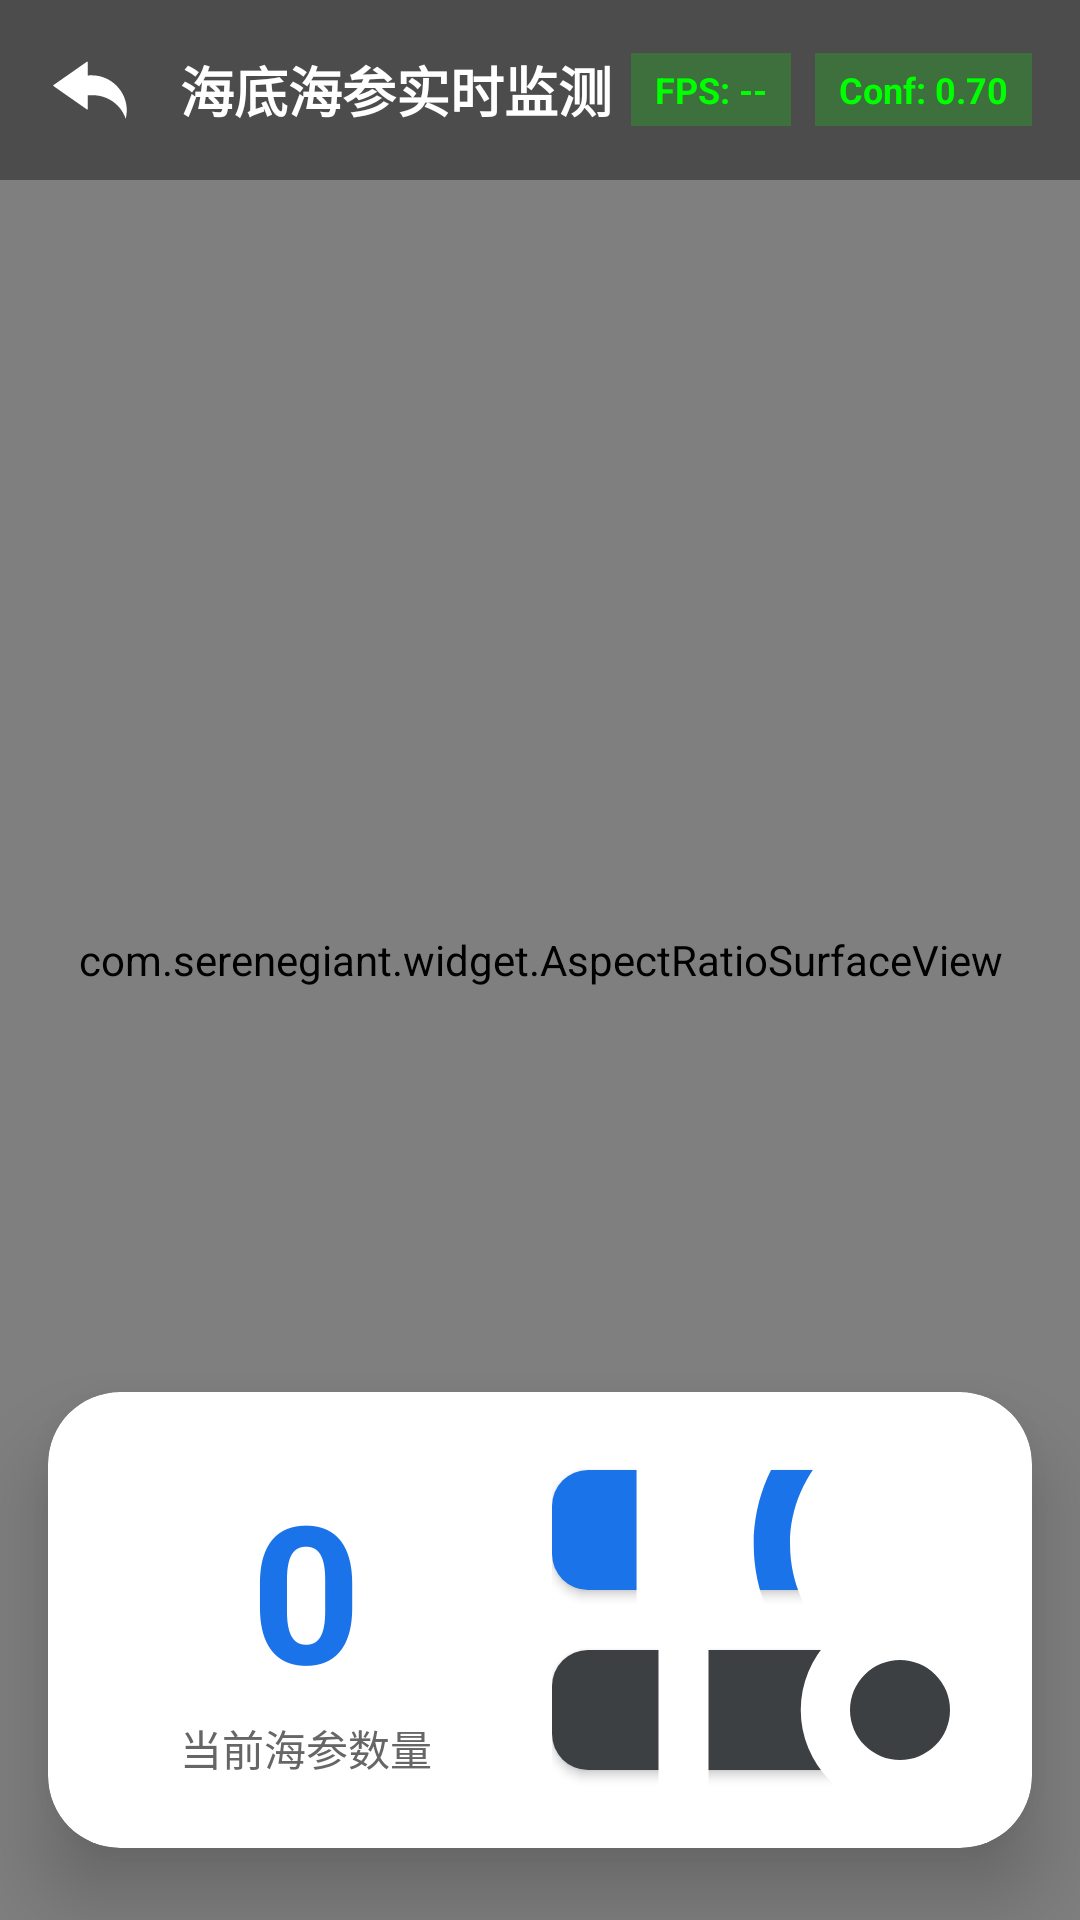

Locate icon controls on the screen. Image size 1080*1920, boxes as (x1, y1, x2, y2).
return: (53, 61, 127, 119)
